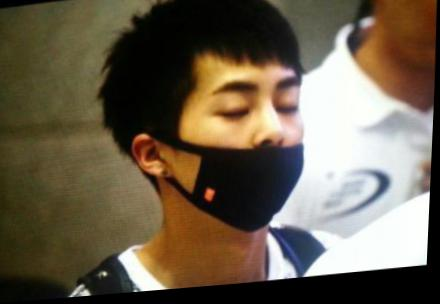WRONG: (172, 74, 322, 228)
